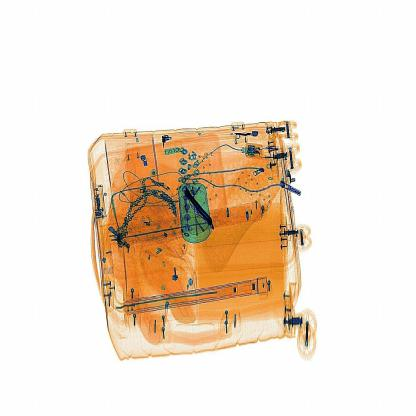knife: (178, 173, 222, 237)
